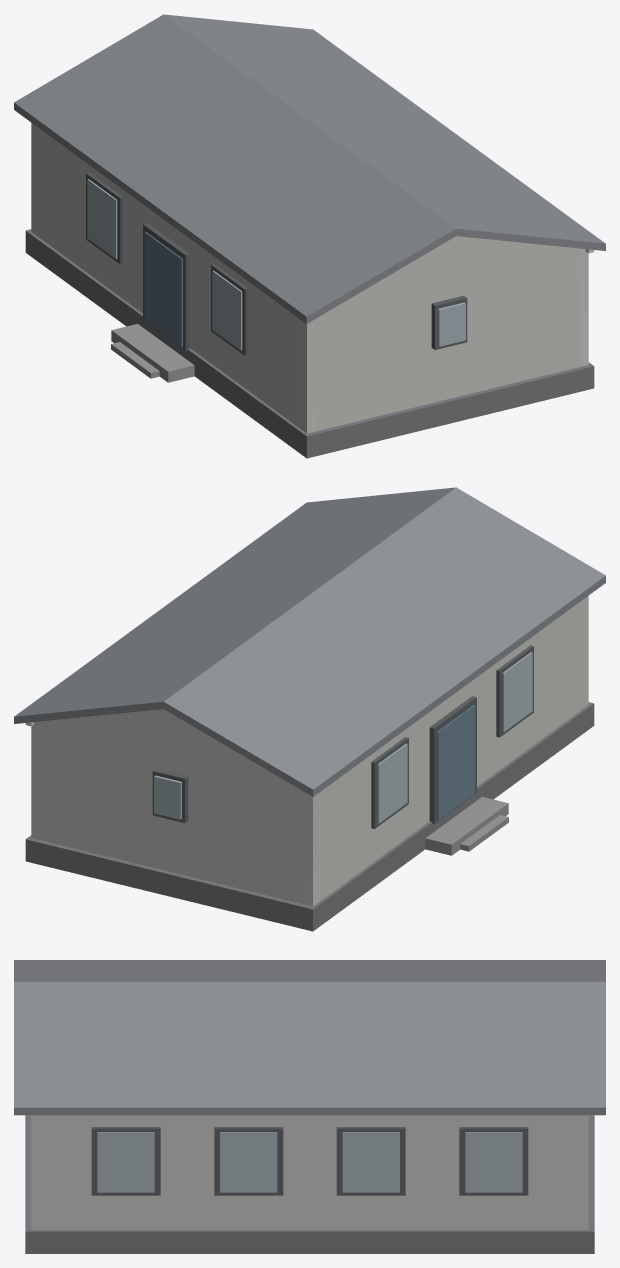
File: stratus-24x36.glb
3 renders of one model, top to bottom at view 1: azimuth 30°, elevation 25°; view 2: azimuth 150°, elevation 25°; view 3: azimuth 270°, elevation 25°, orthographic.
Visible parts, largest first — view 1: world; view 2: world; view 3: world.
Boxes of the visible parts, bbox=[...] form: world: bbox=[14, 14, 605, 458]; world: bbox=[14, 487, 605, 931]; world: bbox=[14, 960, 605, 1253].
Bounding box in the file's own units: 7.11 × 4.11 × 10.97.
